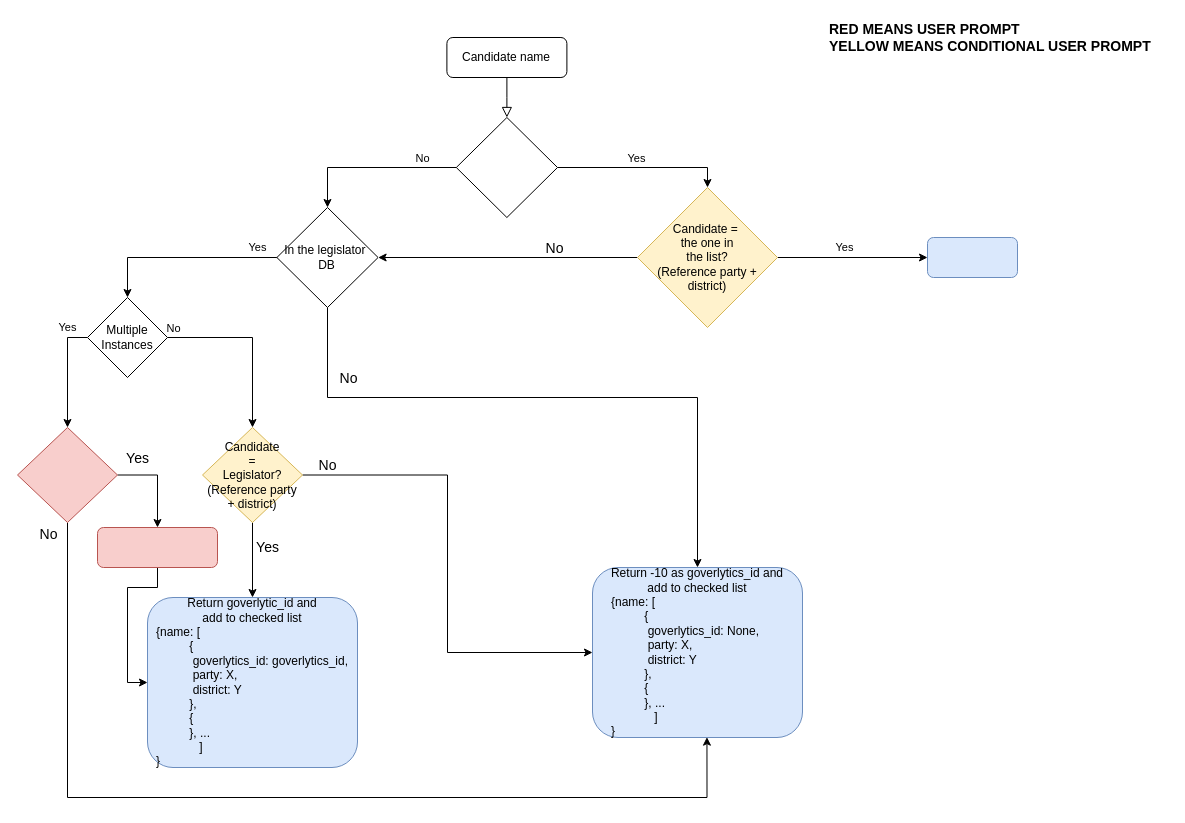
The diagram is 1185 pixels wide and 823 high, and some of its shapes have lost their labels. The shapes that lost their labels are listed below. From the top down, each one's box as (x1, y1, x2, y2) in pixels, then its label:
(455, 116, 558, 218): In the checked List
(926, 236, 1018, 278): Don't append row to rows
(16, 426, 118, 522): There is correct legislator?
(96, 526, 218, 568): Choose correct legislator
